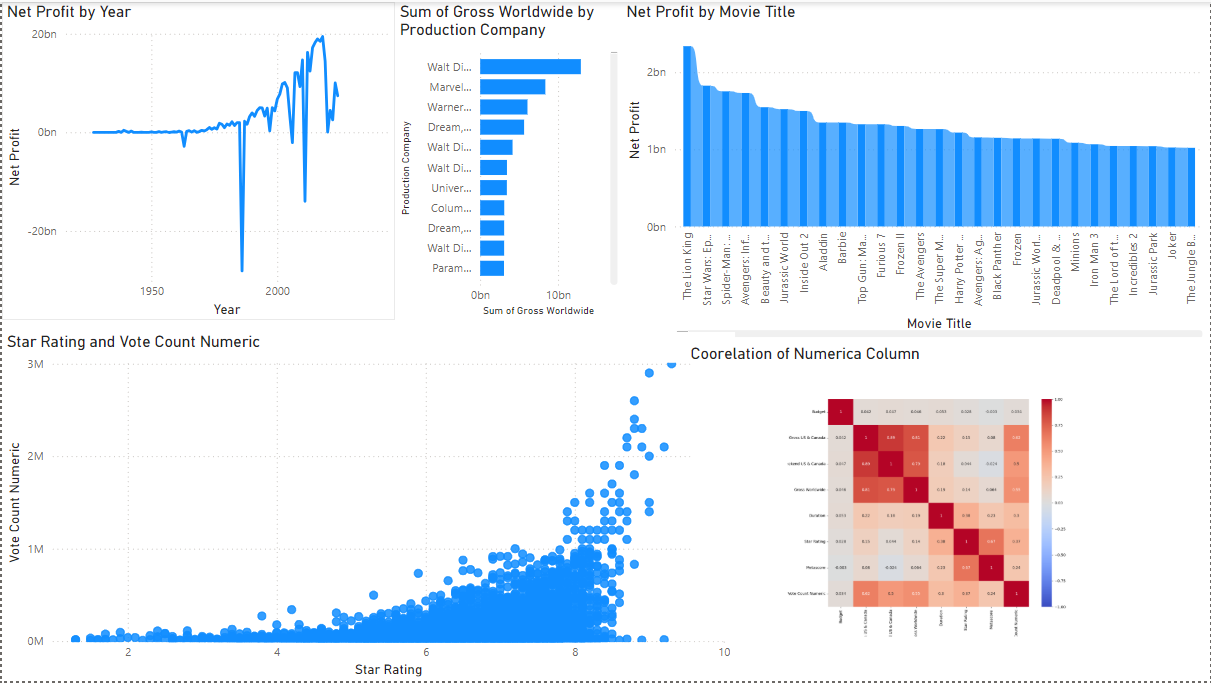

This screenshot's page, from the dashboard's own definition file:
{"tool":"powerbi","page":{"name":"Page 3","canvas":[1280,720],"ordinal":2},"visuals":[{"type":"lineChart","fields":{"Y":["cleaned_data_imdb.Profit Margin"],"Category":["cleaned_data_imdb.Year"]},"box":[0,0,416.4,337.7],"z":0},{"type":"ribbonChart","fields":{"Category":["cleaned_data_imdb.Movie Title"],"Y":["cleaned_data_imdb.Net Profit"]},"box":[657.4,0,621.3,360.7],"z":1000},{"type":"scatterChart","fields":{"X":["cleaned_data_imdb.Star Rating"],"Y":["cleaned_data_imdb.Vote Count Numeric"]},"box":[0,349.2,777,370.5],"z":2000},{"type":"pythonVisual","title":"Coorelation of Numerica Column","fields":{"Values":["cleaned_data_imdb.Duration","cleaned_data_imdb.Gross US & Canada","cleaned_data_imdb.Metascore","cleaned_data_imdb.Star Rating","cleaned_data_imdb.Gross Worldwide","cleaned_data_imdb.Budget","cleaned_data_imdb.Opening Weekend US & Canada","cleaned_data_imdb.Vote Count Numeric"]},"box":[729.5,360.7,549.2,316.4],"z":3000},{"type":"clusteredBarChart","fields":{"Y":["Sum(cleaned_data_imdb.Gross Worldwide)"],"Category":["cleaned_data_imdb.Production Company"]},"box":[416.4,0,241,337.7],"z":4000}]}

Visuals, with their boxes in screenshot pixels (x1, y1, x2, y2), scaled from the page's 1280x720 canvas onto the 1211x683 screenshot:
lineChart - cleaned_data_imdb.Profit Margin x cleaned_data_imdb.Year: rect(0, 0, 394, 320)
ribbonChart - cleaned_data_imdb.Movie Title x cleaned_data_imdb.Net Profit: rect(622, 0, 1210, 342)
scatterChart - cleaned_data_imdb.Star Rating x cleaned_data_imdb.Vote Count Numeric: rect(0, 331, 735, 682)
"Coorelation of Numerica Column" pythonVisual: rect(690, 342, 1210, 642)
clusteredBarChart - Sum(cleaned_data_imdb.Gross Worldwide) x cleaned_data_imdb.Production Company: rect(394, 0, 622, 320)
